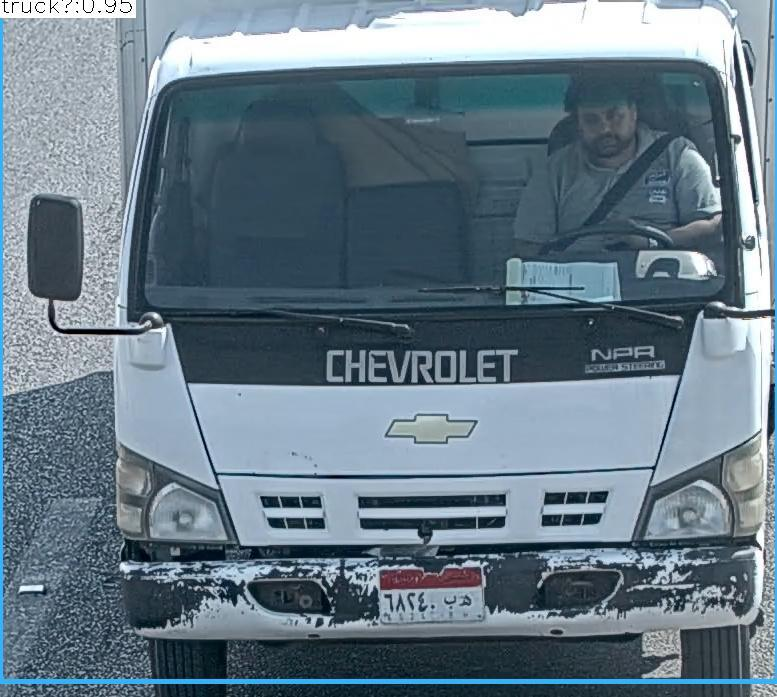windshield: (116, 52, 754, 338)
